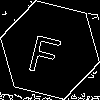F: (25, 25, 66, 77)
